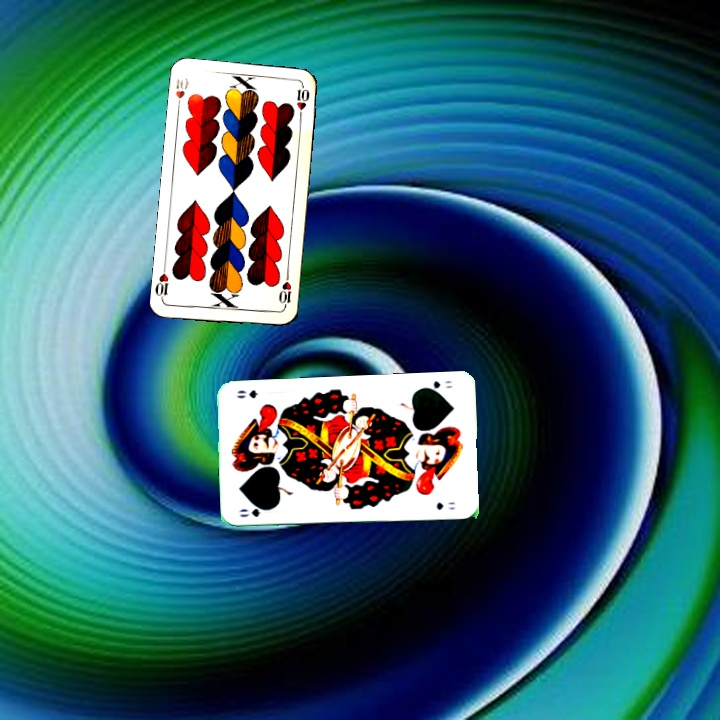GO: (418, 377, 455, 395), (235, 503, 275, 519)
H10: (274, 271, 294, 312), (171, 74, 191, 113)
